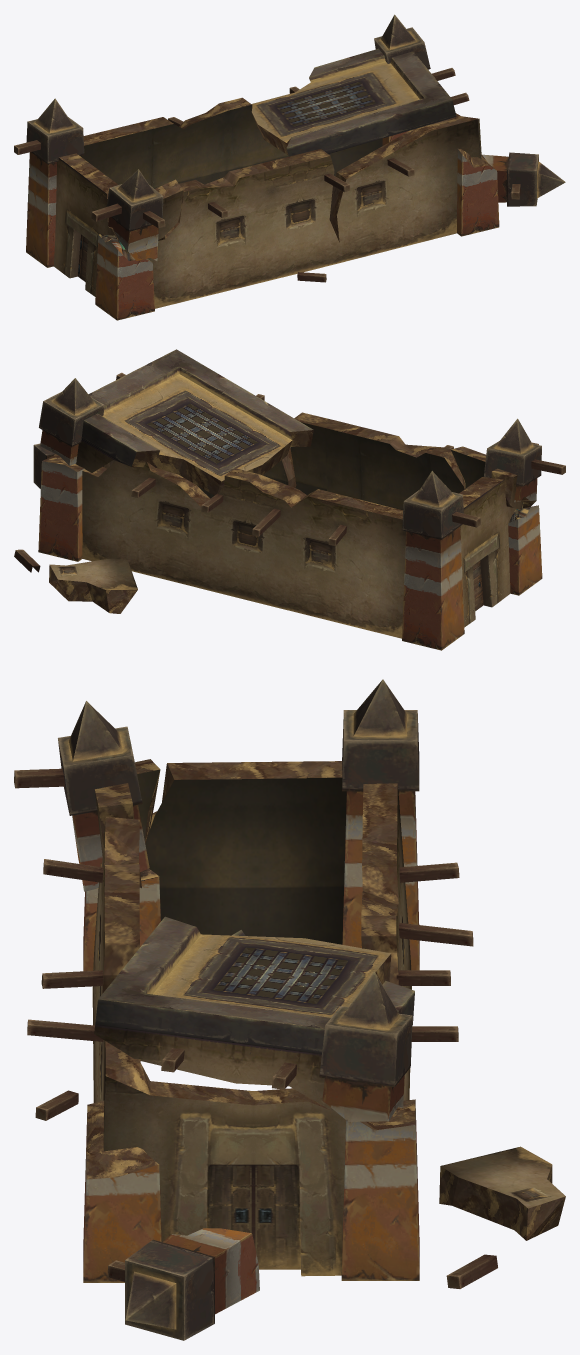
File: building_shamo_jianzhu02_po.FBX
The picture shows the model from 3 angles, top to bottom: view 1: azimuth 30°, elevation 25°; view 2: azimuth 150°, elevation 25°; view 3: azimuth 270°, elevation 25°; orthographic projection. The views are drawn at different scales.
Visible parts, largest first — view 1: building_shamo_jianzhu02_po; view 2: building_shamo_jianzhu02_po; view 3: building_shamo_jianzhu02_po.
Part boxes in pixels (left/top/right/bottom): building_shamo_jianzhu02_po: left=14, top=14, right=565, bottom=320; building_shamo_jianzhu02_po: left=14, top=349, right=565, bottom=650; building_shamo_jianzhu02_po: left=14, top=679, right=565, bottom=1340.
Size of the model in its own units: 23.97 by 7.86 by 13.09.
